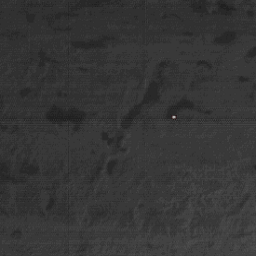Target: (171, 115, 176, 119)
